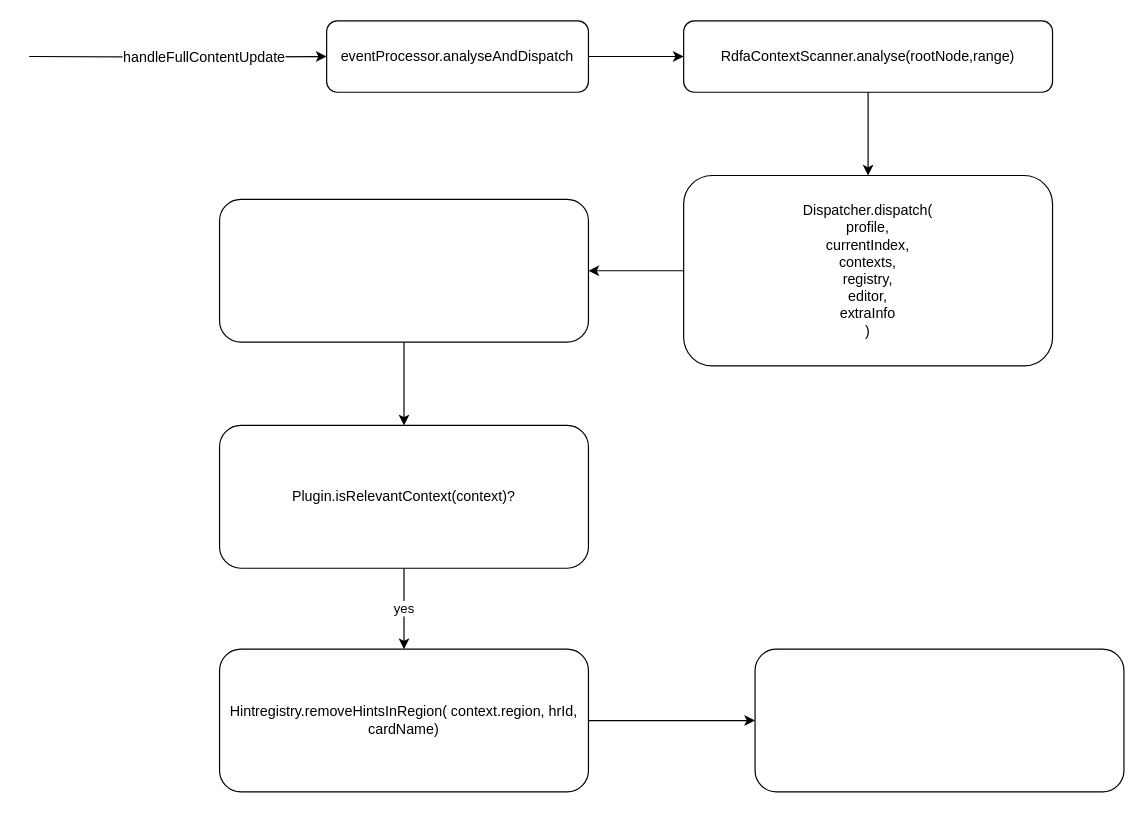
This 1145x813 diagram has some shape labels left out. The centre of each missing label's shape, as x and y in pixels:
Hintsregistry.addHints(currentIndex,editor, hint, cardname): pixel 939 720
Plugin.execute( currentIndex, contexts, registry, editor, extraInfo ): pixel 403 270
